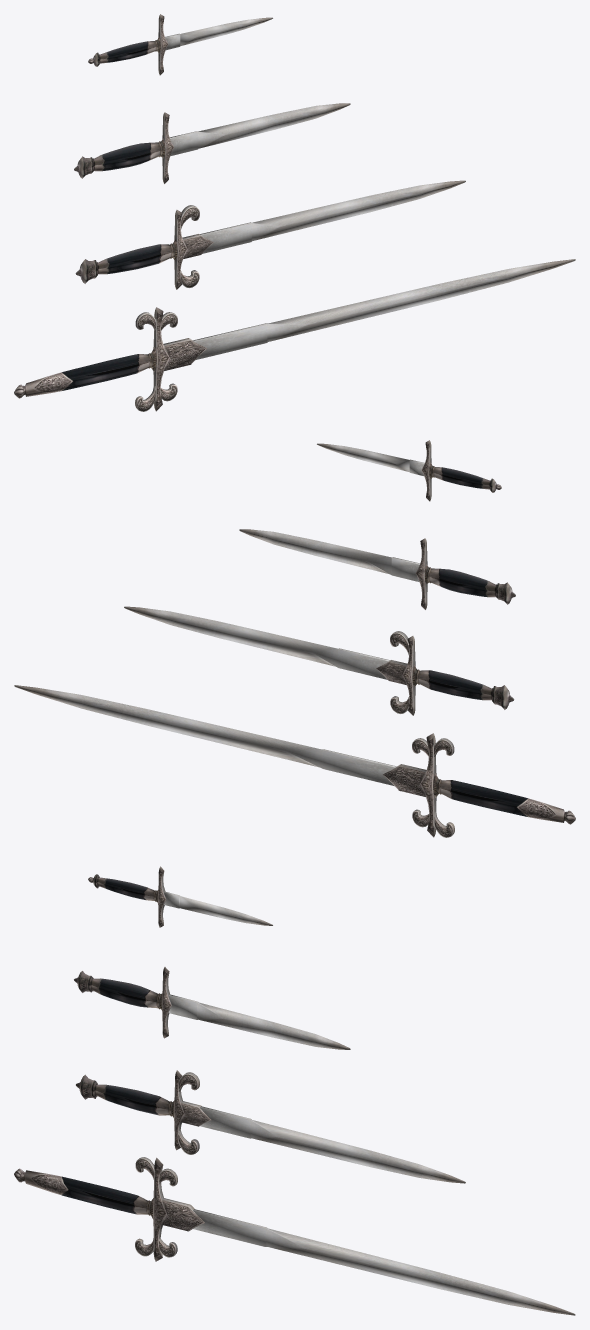
The model's file is daggers.glb.
3 renders of one model, top to bottom at view 1: azimuth 30°, elevation 25°; view 2: azimuth 150°, elevation 25°; view 3: azimuth 330°, elevation 25°, orthographic.
Parts seen in each view (by area): view 1: Cube.004.00, Cube.004.00.00, Cube.004.01, Cube.004; view 2: Cube.004.00, Cube.004.00.00, Cube.004.01, Cube.004; view 3: Cube.004.00, Cube.004.00.00, Cube.004.01, Cube.004.
Boxes of the visible parts, x1=… form: Cube.004.00: x1=14, y1=259, x2=575, y2=411; Cube.004.00.00: x1=75, y1=180, x2=465, y2=289; Cube.004.01: x1=74, y1=103, x2=350, y2=183; Cube.004: x1=88, y1=14, x2=272, y2=75; Cube.004.00: x1=14, y1=685, x2=575, y2=837; Cube.004.00.00: x1=124, y1=606, x2=514, y2=715; Cube.004.01: x1=239, y1=529, x2=515, y2=609; Cube.004: x1=317, y1=440, x2=501, y2=501; Cube.004.00: x1=14, y1=1157, x2=575, y2=1315; Cube.004.00.00: x1=76, y1=1070, x2=465, y2=1183; Cube.004.01: x1=74, y1=967, x2=350, y2=1049; Cube.004: x1=88, y1=866, x2=272, y2=927.
Size of the model in its own units: 112 by 75.78 by 2.1.
Materials: 4 (4 with a texture image).
